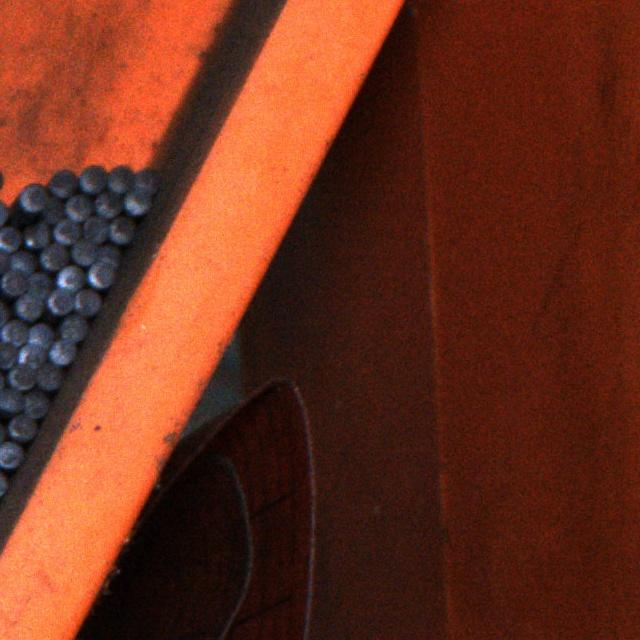tool: (79, 164, 108, 194), (49, 168, 78, 197), (94, 190, 122, 218), (14, 293, 42, 321), (20, 182, 48, 210), (108, 164, 135, 193), (22, 390, 49, 418), (64, 194, 92, 221), (87, 260, 114, 288), (59, 314, 87, 341), (9, 363, 36, 390), (73, 288, 100, 315), (83, 216, 110, 243), (39, 243, 67, 269), (22, 222, 50, 248), (48, 338, 76, 364), (53, 219, 81, 245), (18, 342, 46, 368), (110, 215, 136, 242), (8, 415, 35, 441), (37, 361, 63, 388), (0, 319, 26, 346), (48, 288, 74, 315), (57, 265, 84, 291), (134, 166, 160, 193), (0, 267, 25, 295), (28, 322, 54, 348), (124, 187, 150, 213), (27, 272, 52, 299), (8, 250, 34, 275), (70, 237, 94, 264), (0, 387, 23, 413), (96, 244, 122, 267), (40, 196, 62, 222), (0, 441, 21, 468), (0, 225, 20, 250), (0, 340, 16, 367), (0, 299, 9, 328), (0, 198, 8, 227), (0, 248, 9, 272), (0, 469, 7, 497), (0, 365, 6, 393), (0, 417, 6, 444)
